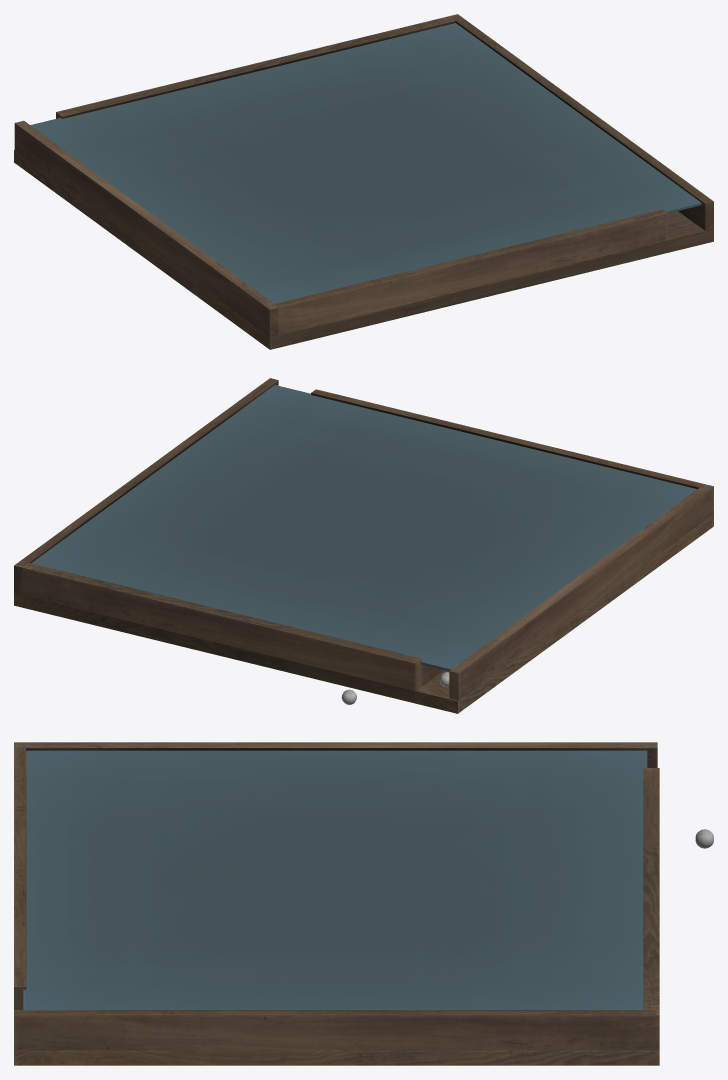
The model's file is Labirinto_bolinha.glb.
3 views of the same model, one above another, from view 1: azimuth 30°, elevation 25°; view 2: azimuth 150°, elevation 25°; view 3: azimuth 270°, elevation 25° (orthographic). The views are drawn at different scales.
Parts seen in each view (by area): view 1: polySurface19, polySurface14; view 2: polySurface19, polySurface14; view 3: polySurface19, polySurface14.
Boxes of the visible parts, bbox=[...] form: polySurface19: bbox=[30, 23, 701, 303]; polySurface14: bbox=[14, 14, 713, 349]; polySurface19: bbox=[31, 385, 697, 670]; polySurface14: bbox=[14, 378, 713, 713]; polySurface19: bbox=[23, 750, 647, 1009]; polySurface14: bbox=[14, 742, 659, 1065].
Size of the model in its own units: 31.14 by 2.69 by 33.74.
Materials: 2 (2 with a texture image).
